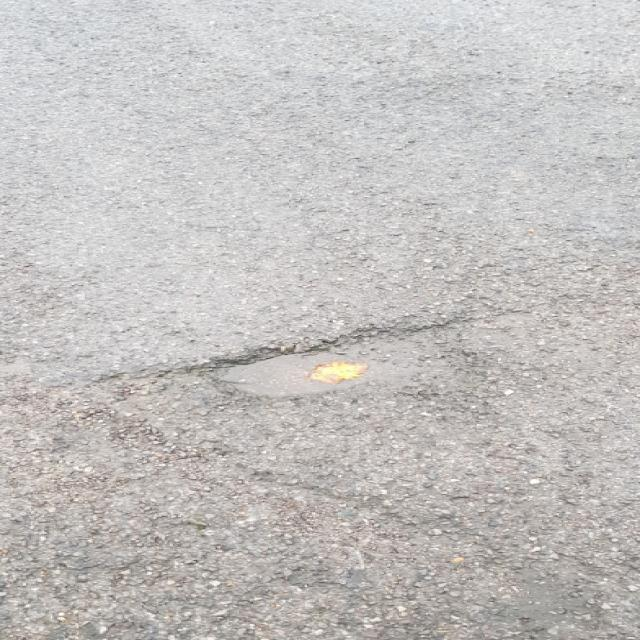pothole: (191, 316, 488, 404)
